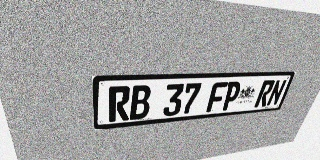3: (162, 84, 185, 117)
7: (180, 83, 202, 115)
B: (130, 85, 152, 120)
F: (206, 82, 228, 112)
N: (266, 79, 287, 106)
P: (220, 81, 243, 111)
R: (109, 86, 131, 122), (254, 80, 276, 107)
